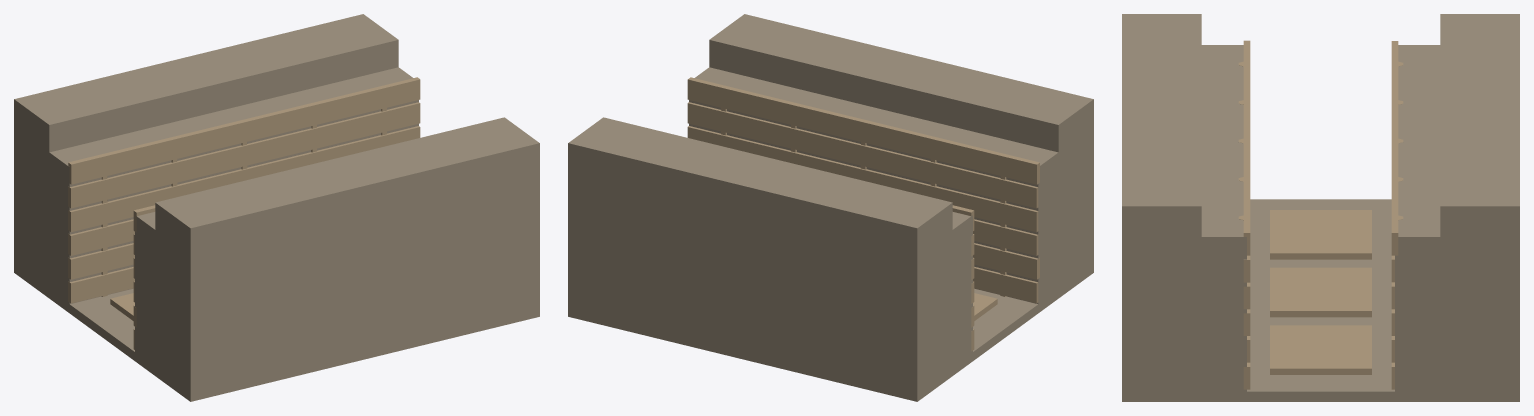
Rendered from trench-straight.glb.
3 renders of one model, left to right at view 1: azimuth 30°, elevation 25°; view 2: azimuth 150°, elevation 25°; view 3: azimuth 270°, elevation 25°, orthographic. The views are drawn at different scales.
Visible parts, largest first — view 1: trench-straight; view 2: trench-straight; view 3: trench-straight.
Part boxes in pixels (x1,y1,x2,y2): trench-straight: [14, 14, 539, 401]; trench-straight: [568, 14, 1093, 401]; trench-straight: [1122, 14, 1519, 401].
Bounding box in the file's own units: 4 × 1.9 × 3.5.
